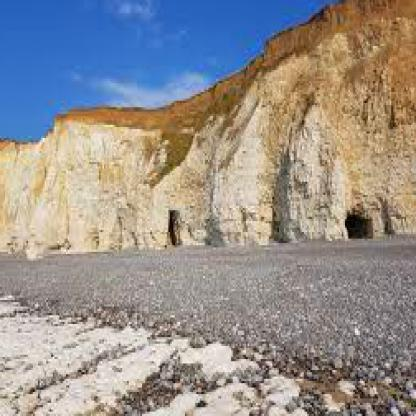Sedimentary_Chalk: (0, 304, 167, 414), (178, 339, 236, 379), (261, 379, 310, 414)
